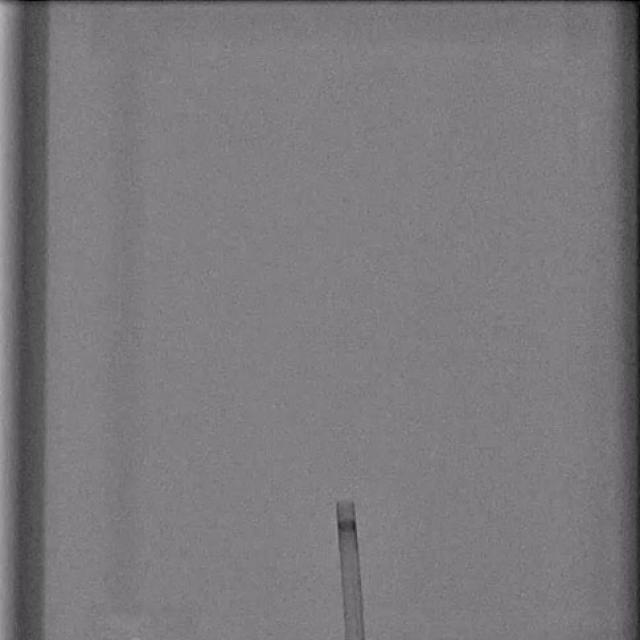entry: (346, 634, 366, 640)
marker: (337, 517, 356, 532)
tip: (337, 499, 354, 505)
